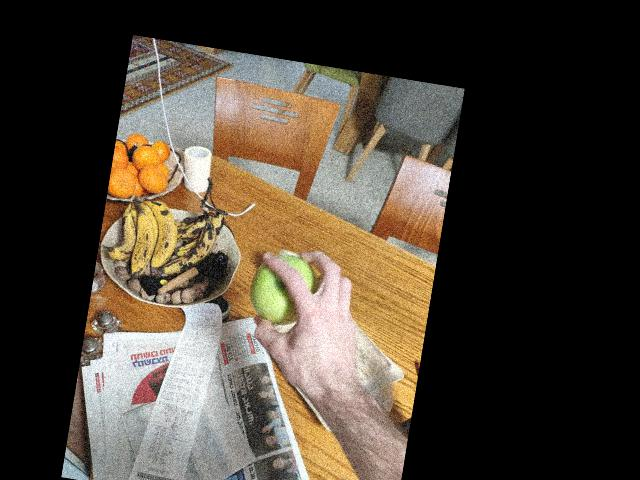apple: (246, 246, 322, 332)
